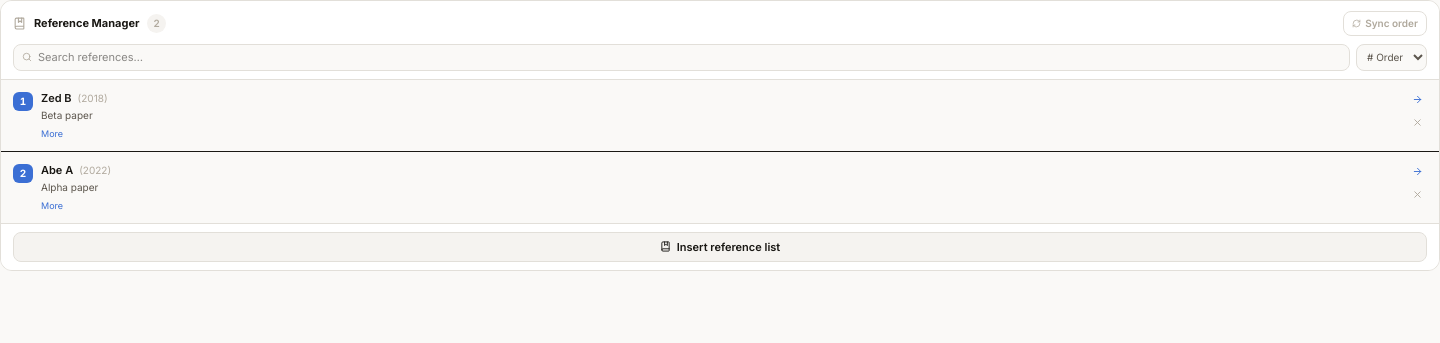
it: ReferenceManager › expands a row to show its journal and DOI
Expected: the text "10.1/b" is not shown
Click the button with test id "control-expand-reference" below "Beta paper" at (52, 134), box [41,127,63,140]
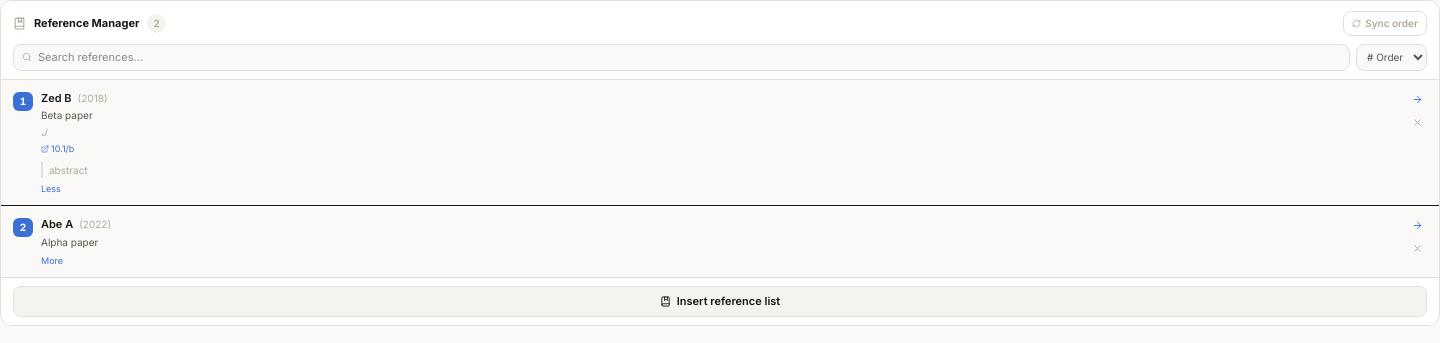
Expected: the link "10.1/b" is shown, [41,143,74,154]
